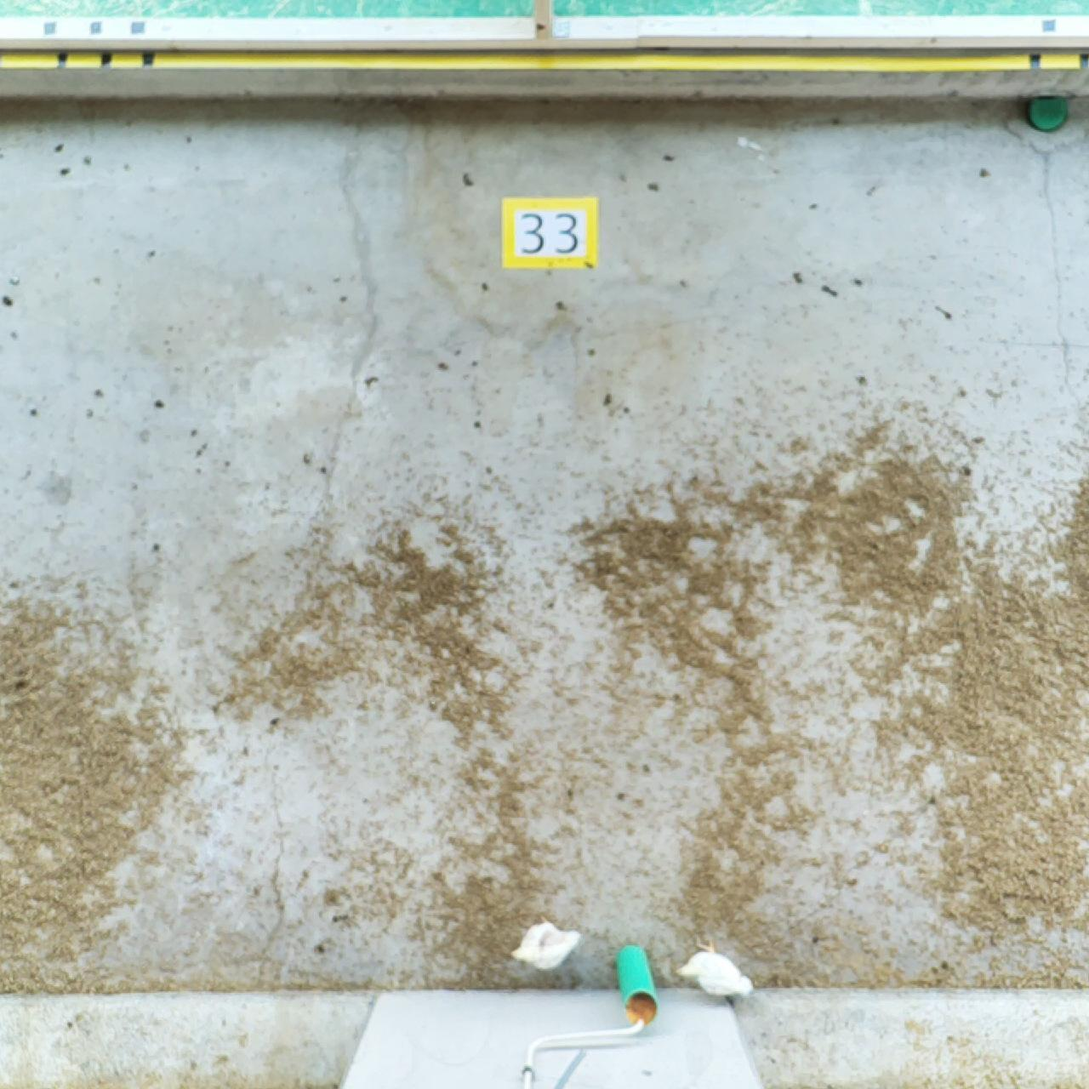chicken: (671, 930, 755, 1001), (509, 910, 587, 974)
